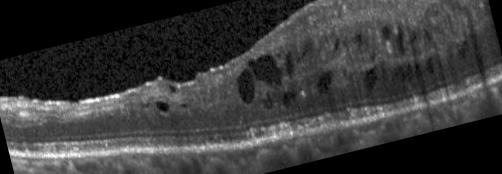intraretinal_cyst: (248, 55, 282, 85), (236, 68, 255, 104), (407, 27, 420, 57), (316, 71, 331, 96), (363, 67, 377, 91), (295, 42, 310, 61), (284, 52, 294, 79), (397, 26, 405, 54), (282, 92, 295, 108), (262, 90, 272, 109), (456, 42, 467, 59), (155, 101, 169, 113), (470, 34, 478, 51), (354, 31, 361, 46), (423, 27, 431, 40), (382, 26, 389, 39), (372, 39, 376, 61), (333, 38, 339, 51), (406, 63, 412, 76), (427, 58, 432, 72), (399, 65, 404, 78), (168, 84, 175, 93), (342, 37, 348, 47), (415, 62, 420, 73), (393, 68, 398, 77), (276, 54, 281, 59), (180, 104, 187, 107)
